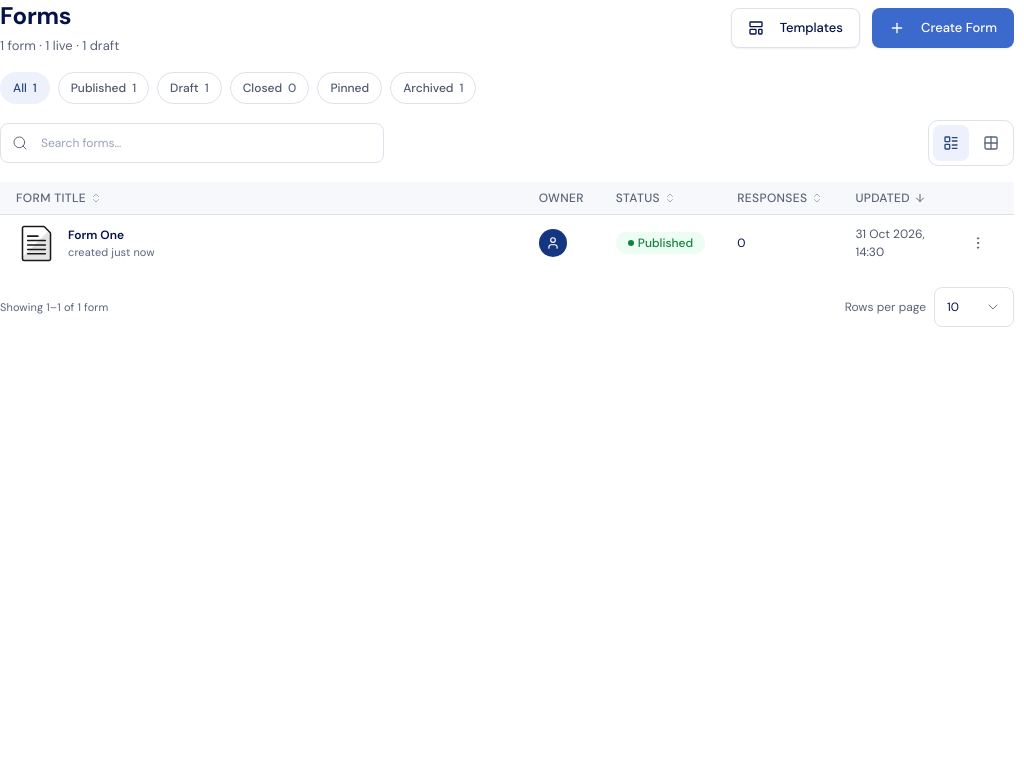
Test case: WorkspaceFormsPage — FormsPage rendered with workspace context › row-action wiring unchanged after the ui/Table migration and select column (task 6.5) › the row menu's single-item Delete is a one-click move to Trash (reversible, no typed confirmation)
This screenshot has width=1024, height=768.
Expected: the link "Form One" is shown, [68,226,124,244]
Click the button named "Actions for" at point(978, 243), box [958,223,998,263]
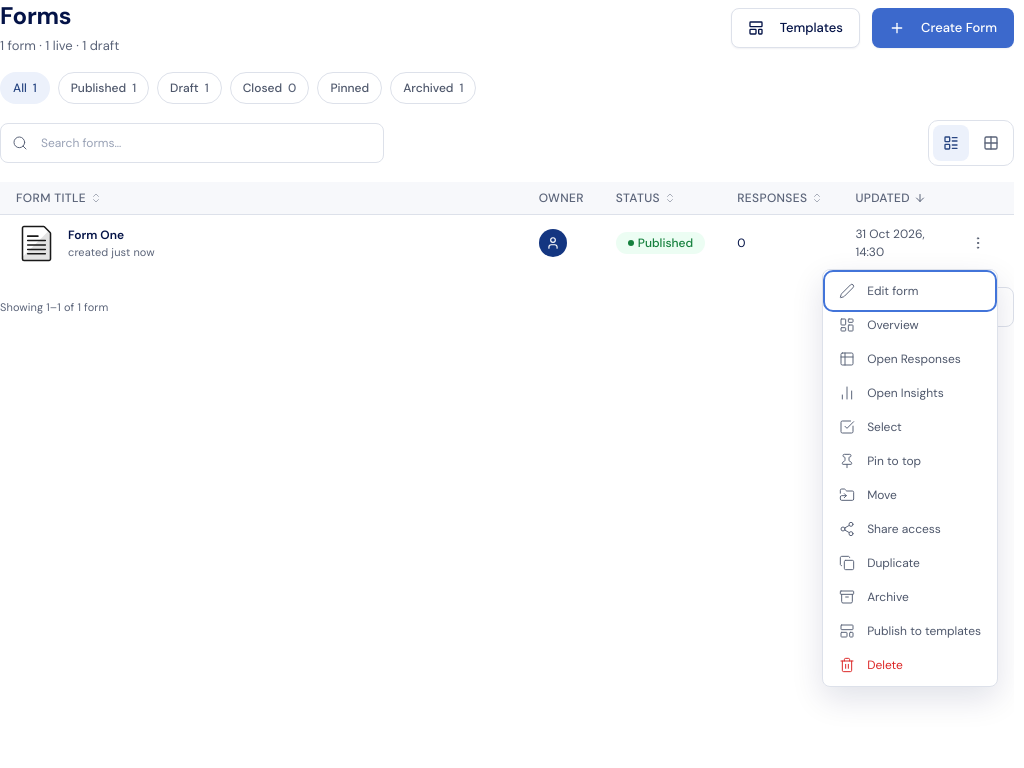
Click the menu item "Delete" at point(910, 665), box [827,648,993,682]
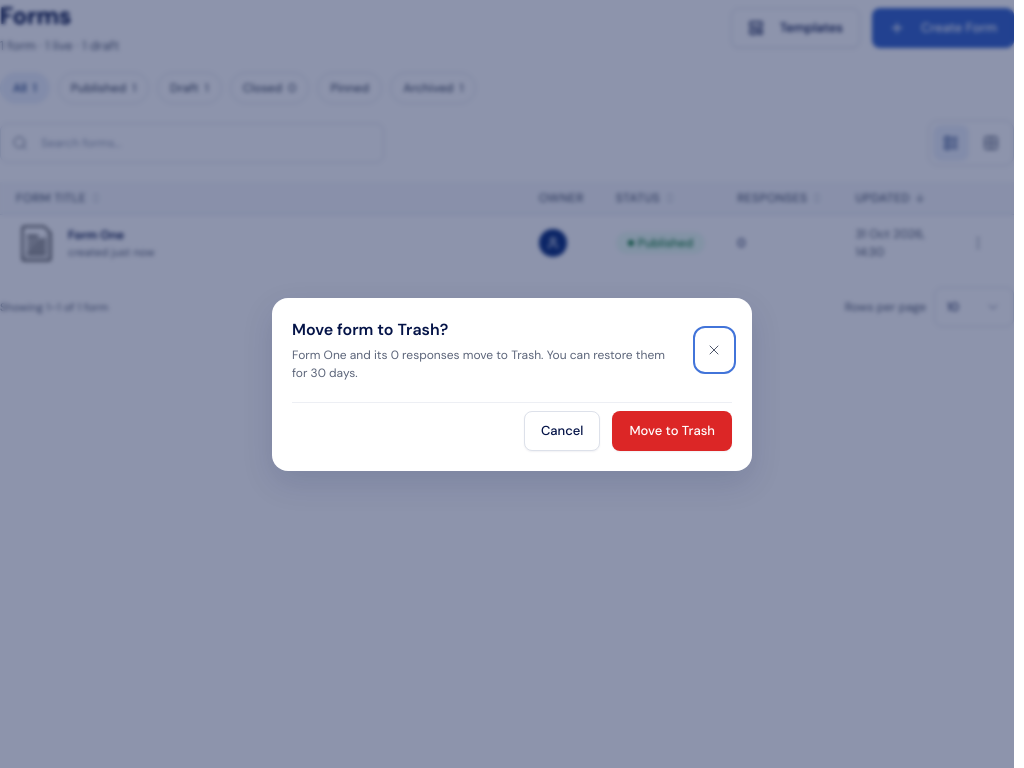
Now the heading "Move form to Trash?" is shown, box [292,318,448,340]
Now the button "Move to Trash" is enabled, box [612,410,732,450]
